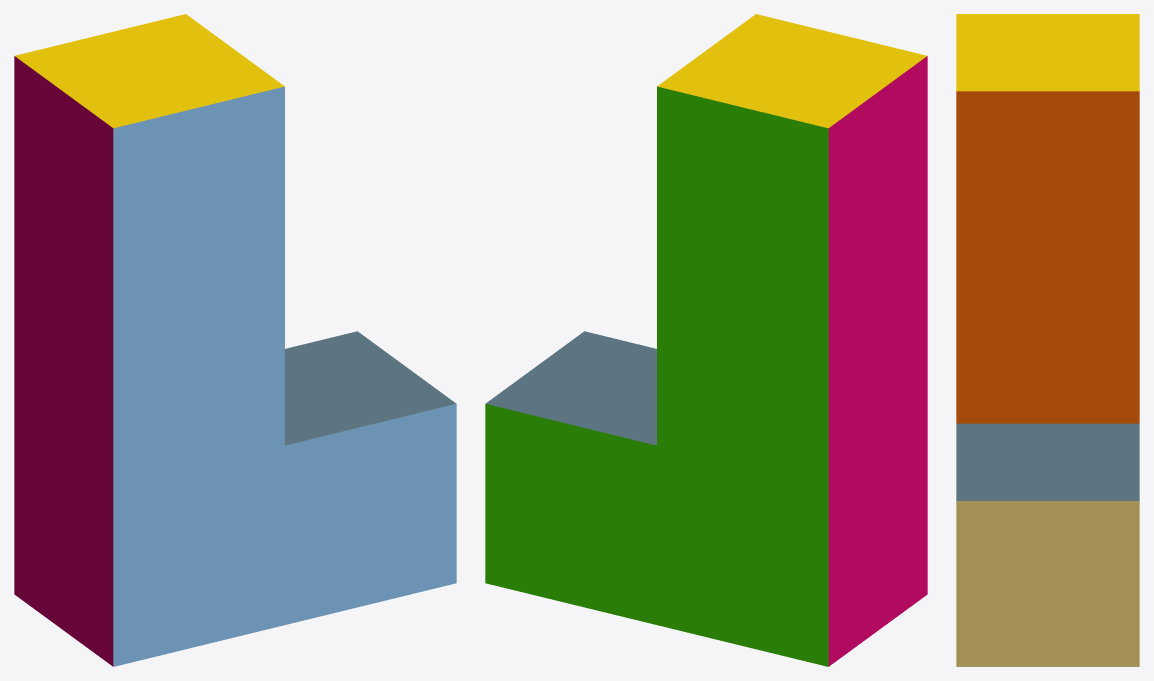
File: LShape.fbx
3 views of the same model, side by side, from view 1: azimuth 30°, elevation 25°; view 2: azimuth 150°, elevation 25°; view 3: azimuth 270°, elevation 25° (orthographic). The views are drawn at different scales.
Visible parts, largest first — view 1: L-Shape; view 2: L-Shape; view 3: L-Shape.
Boxes of the visible parts, x1=… form: L-Shape: x1=14, y1=14, x2=456, y2=666; L-Shape: x1=485, y1=14, x2=927, y2=666; L-Shape: x1=956, y1=14, x2=1139, y2=666.
Bounding box in the file's own units: 4 × 6 × 2.
